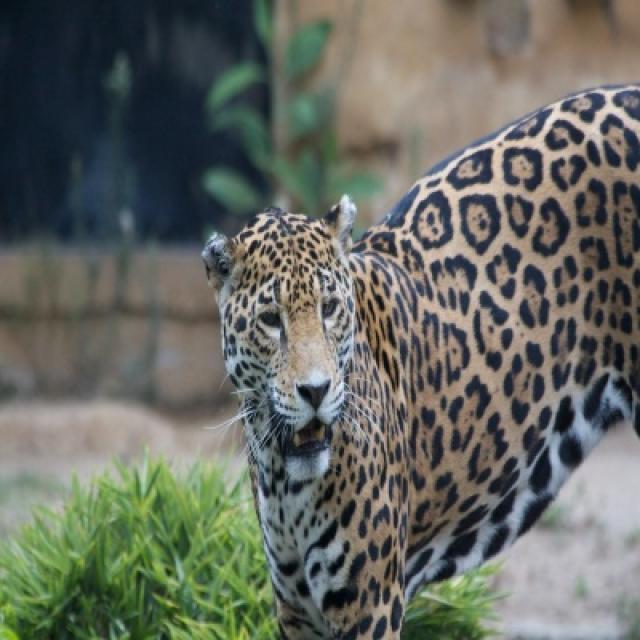Jaguar: (200, 82, 638, 638)
